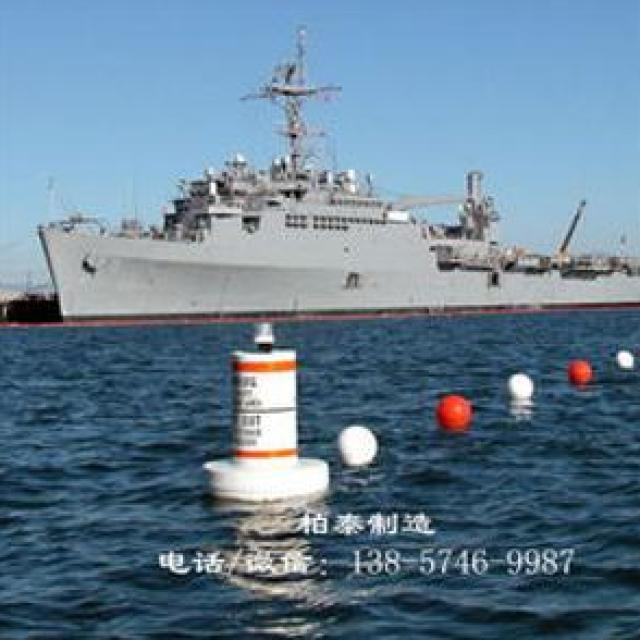buoy: (188, 333, 316, 491), (324, 419, 388, 494), (436, 386, 475, 436), (499, 366, 537, 402), (610, 343, 640, 370), (570, 358, 590, 394)
navalvessels: (36, 76, 639, 333)
